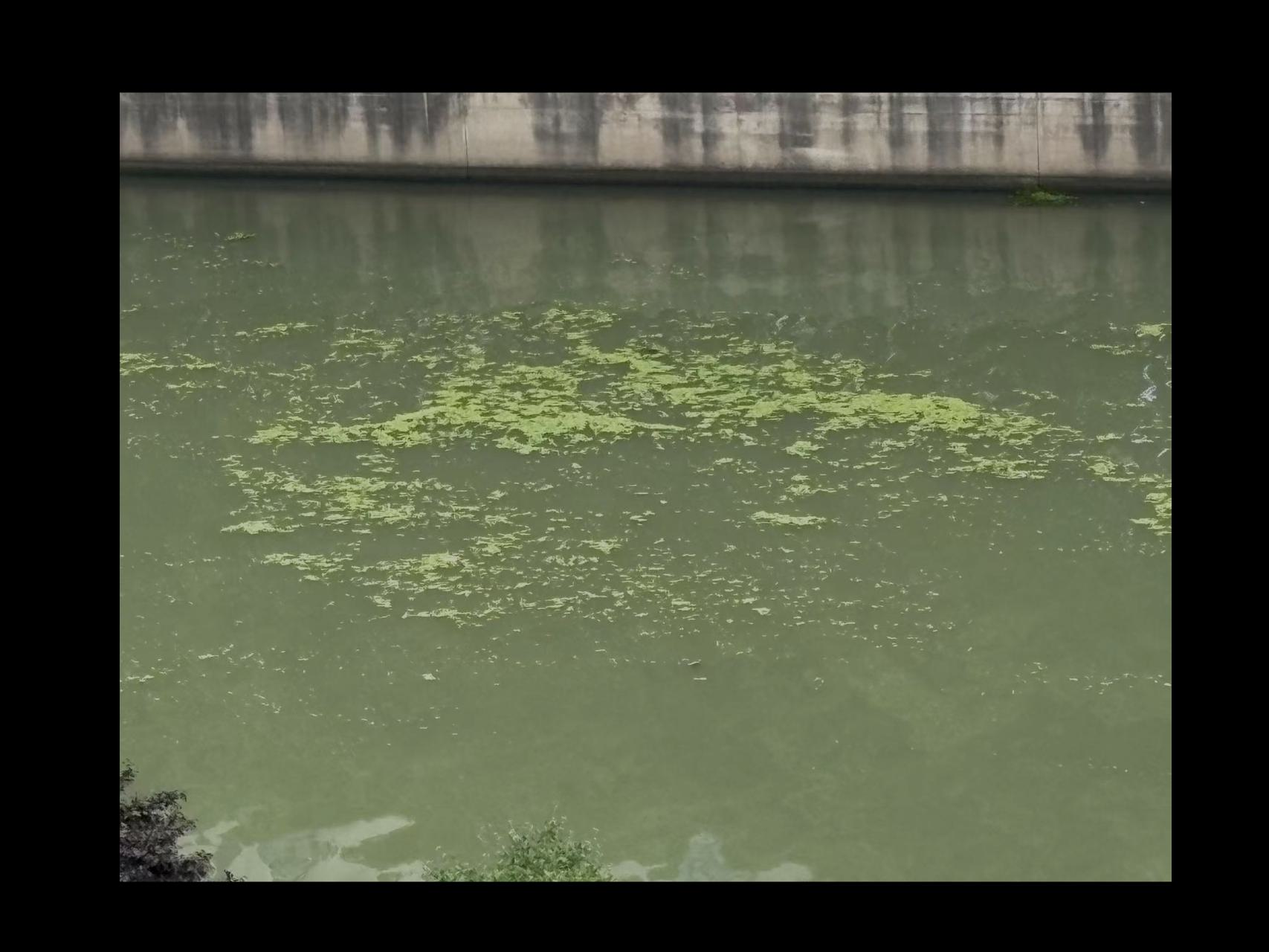Other: (419, 313, 665, 444), (238, 467, 436, 528), (667, 345, 815, 419), (821, 386, 977, 430), (262, 416, 428, 444), (382, 552, 494, 591), (984, 414, 1042, 473), (334, 324, 403, 361), (1078, 452, 1129, 487), (1143, 475, 1170, 540), (119, 352, 213, 370), (267, 552, 343, 574), (245, 322, 317, 342), (750, 509, 818, 530), (1131, 318, 1167, 340)
